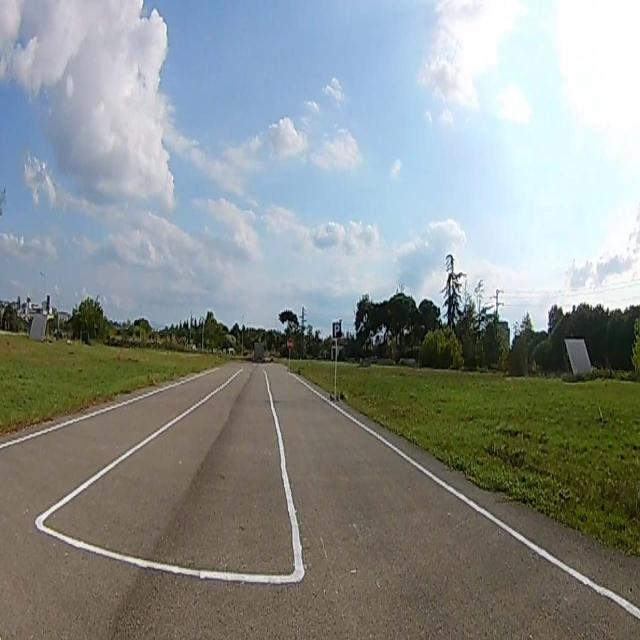park: (332, 321, 342, 339)
